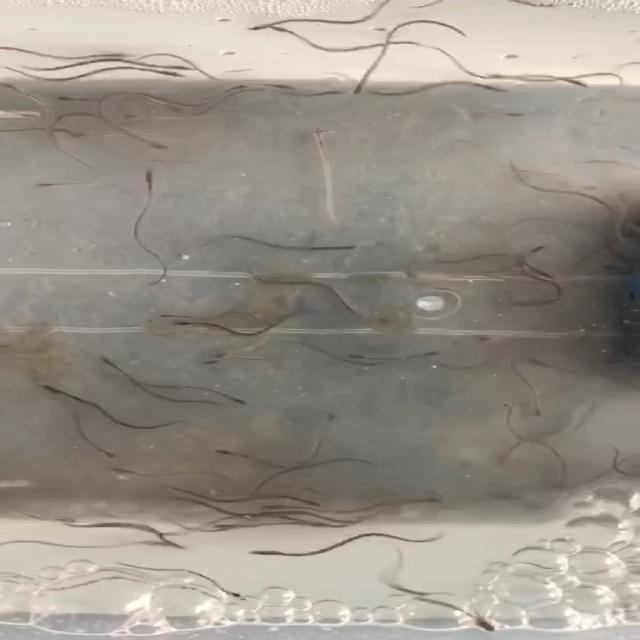active_glass_eel: (465, 78, 523, 95), (253, 76, 304, 93), (302, 127, 338, 149), (483, 106, 530, 122), (556, 75, 604, 90), (44, 126, 94, 139), (242, 13, 276, 32), (136, 169, 166, 189), (24, 177, 70, 190), (341, 81, 376, 97), (0, 81, 32, 98), (496, 158, 526, 176), (142, 309, 172, 327), (150, 68, 188, 82), (524, 352, 555, 369), (318, 85, 350, 101), (519, 244, 551, 260), (162, 61, 195, 76), (261, 22, 293, 37), (339, 351, 374, 364), (93, 354, 121, 370), (418, 492, 446, 508), (104, 465, 141, 477), (94, 50, 138, 60), (247, 549, 278, 563), (342, 304, 372, 318), (145, 538, 180, 550), (464, 332, 494, 345), (214, 344, 240, 359), (54, 92, 89, 103), (315, 410, 342, 424), (37, 382, 64, 396), (476, 618, 497, 636), (144, 140, 175, 152), (492, 401, 520, 414), (211, 521, 244, 532), (219, 396, 255, 406), (231, 85, 258, 98), (168, 318, 195, 331), (535, 269, 559, 282), (169, 250, 191, 264), (527, 406, 547, 421), (224, 590, 248, 602), (333, 242, 361, 252), (98, 446, 119, 459), (421, 349, 445, 360), (204, 357, 224, 370), (212, 447, 240, 456), (259, 503, 283, 513), (300, 500, 325, 508)
